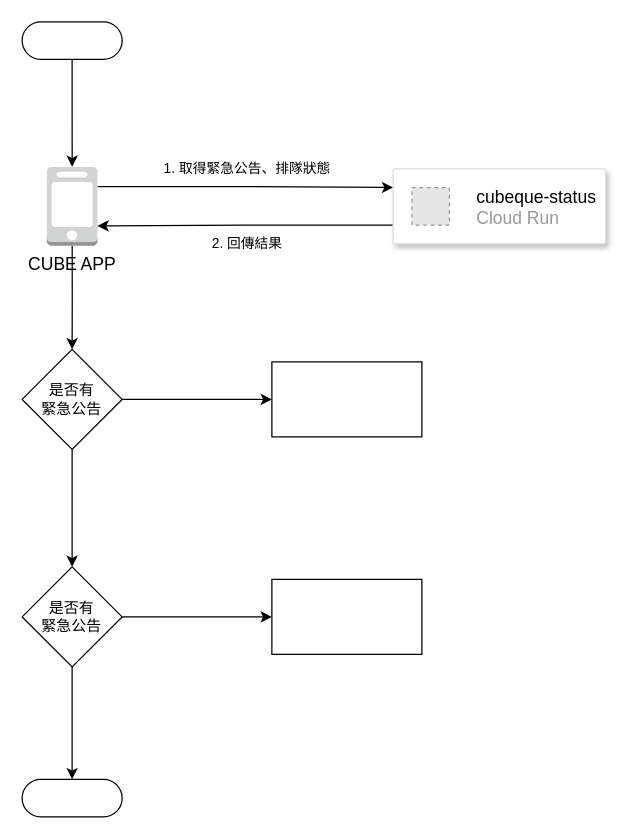
Image size: 635x839. Some labels were removed from this diagram. Grey dashed boxes stand in for pictures. The centre of each missing label's shape, as x and y in pixels:
End: (71,797)
Start: (71,40)
